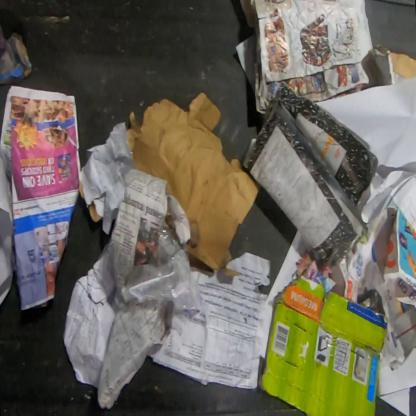cardboard: (126, 91, 262, 277), (248, 79, 378, 270), (257, 273, 389, 416), (0, 21, 34, 87), (369, 42, 415, 86), (87, 201, 104, 223), (79, 180, 85, 200)
soft_plastic: (96, 216, 202, 330), (357, 285, 385, 315)
